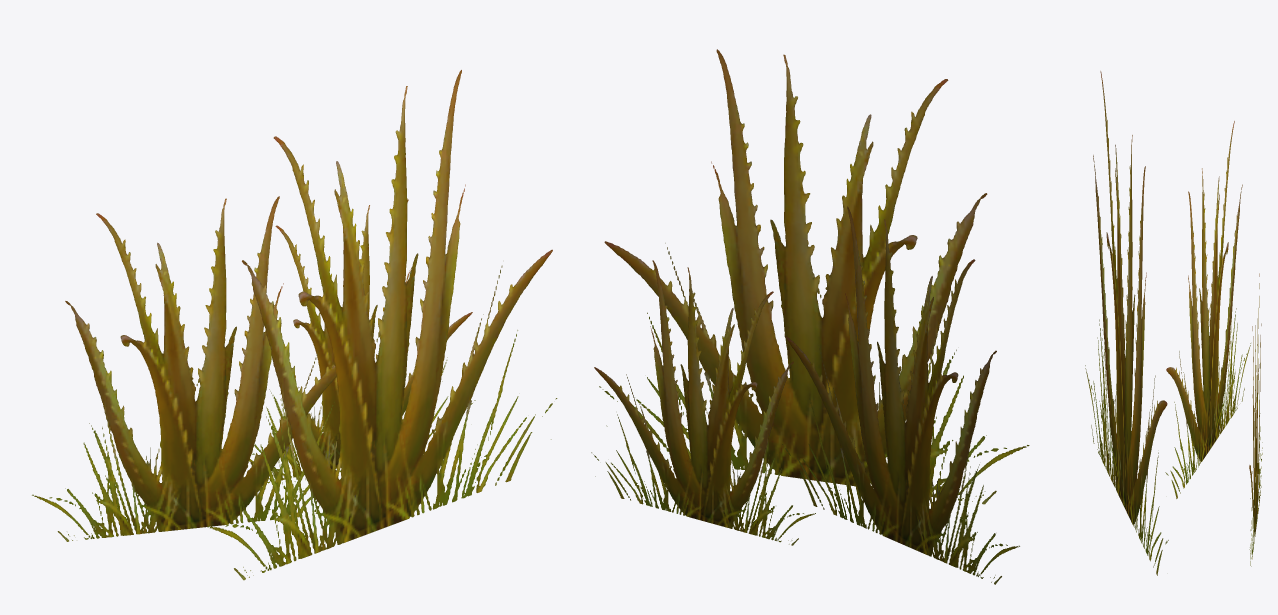
The model's file is CeShi_BFB07_Cao04.FBX.
3 views of the same model, side by side, from view 1: azimuth 30°, elevation 25°; view 2: azimuth 150°, elevation 25°; view 3: azimuth 270°, elevation 25° (orthographic). The views are drawn at different scales.
Visible parts, largest first — view 1: CeShi_BFB07_Cao04; view 2: CeShi_BFB07_Cao04; view 3: CeShi_BFB07_Cao04.
Boxes of the visible parts, box(x1,y1,x2,y2) form: CeShi_BFB07_Cao04: box(32, 70, 557, 580); CeShi_BFB07_Cao04: box(591, 49, 1029, 584); CeShi_BFB07_Cao04: box(1085, 71, 1262, 575).
Bounding box in the file's own units: 156 × 134 × 55.21.
